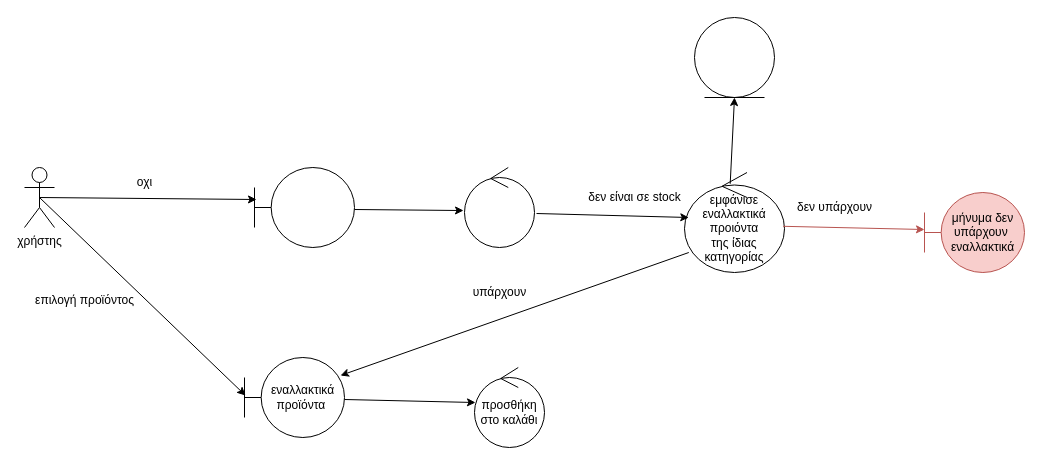
Image size: 1042x465. Some labels were removed from this diagram. Here are the shapes that lost their labels. From the top down, the centre of each, then its label:
At point 734,57: "εναλλακτικά προιόντα".
At point 304,207: "προσθήκη στα αγαπημένα ?".
At point 499,207: "έλεγχος stock".
